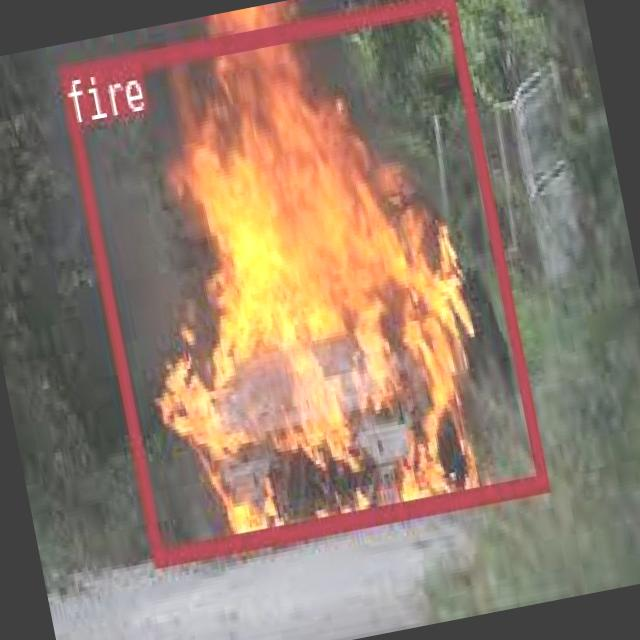fire: (56, 0, 546, 564)
